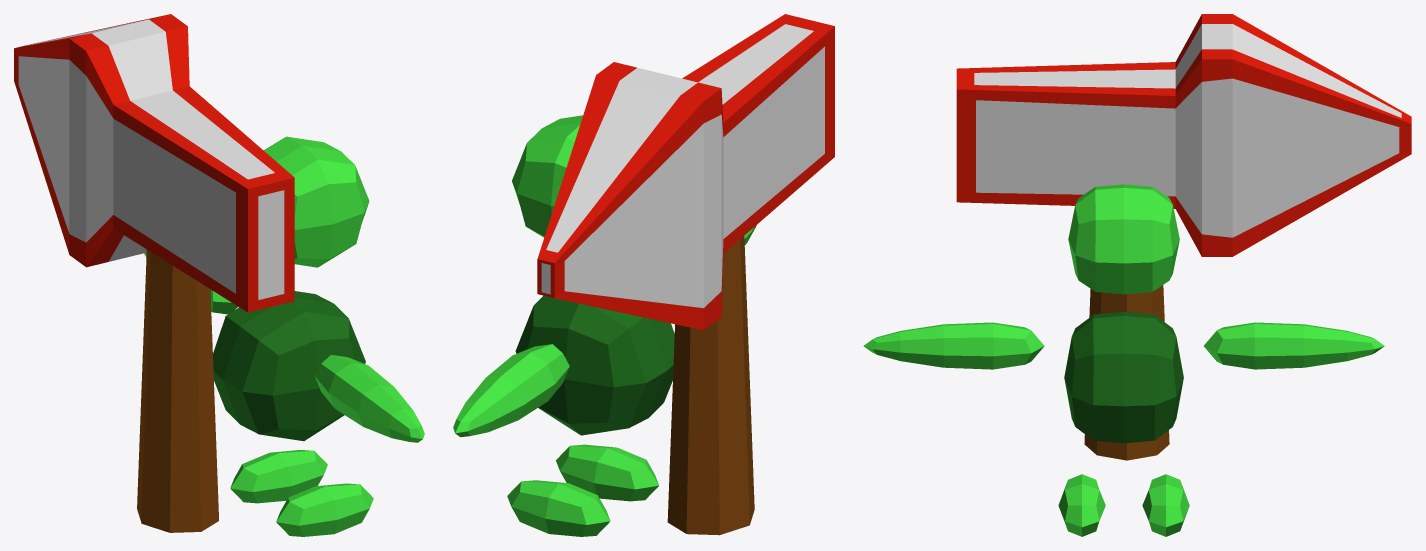
File: Direction.fbx
3 views of the same model, side by side, from view 1: azimuth 30°, elevation 25°; view 2: azimuth 150°, elevation 25°; view 3: azimuth 270°, elevation 25° (orthographic). The views are drawn at different scales.
Parts seen in each view (by area): view 1: Cylinder, Cube; view 2: Cylinder, Cube; view 3: Cylinder, Cube.
Boxes of the visible parts, x1=… form: Cylinder: x1=14, y1=14, x2=294, y2=532; Cube: x1=144, y1=136, x2=424, y2=536; Cylinder: x1=537, y1=14, x2=834, y2=535; Cube: x1=453, y1=115, x2=756, y2=536; Cylinder: x1=956, y1=14, x2=1411, y2=460; Cube: x1=863, y1=184, x2=1384, y2=536.
Bounding box in the file's own units: 386 × 774 × 883.
